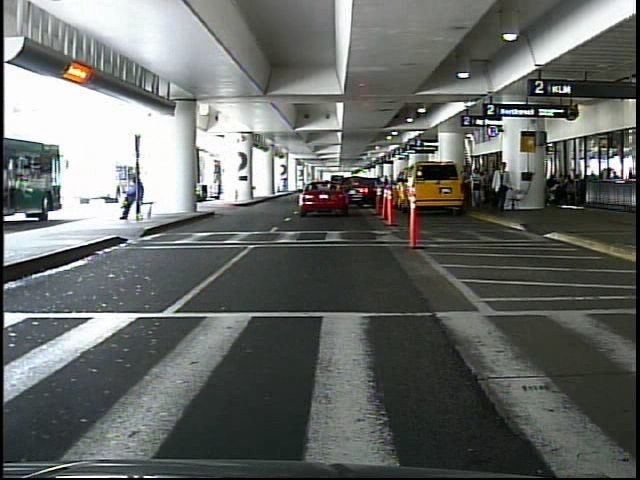person: (493, 160, 512, 212), (470, 166, 484, 210), (482, 167, 494, 210)
